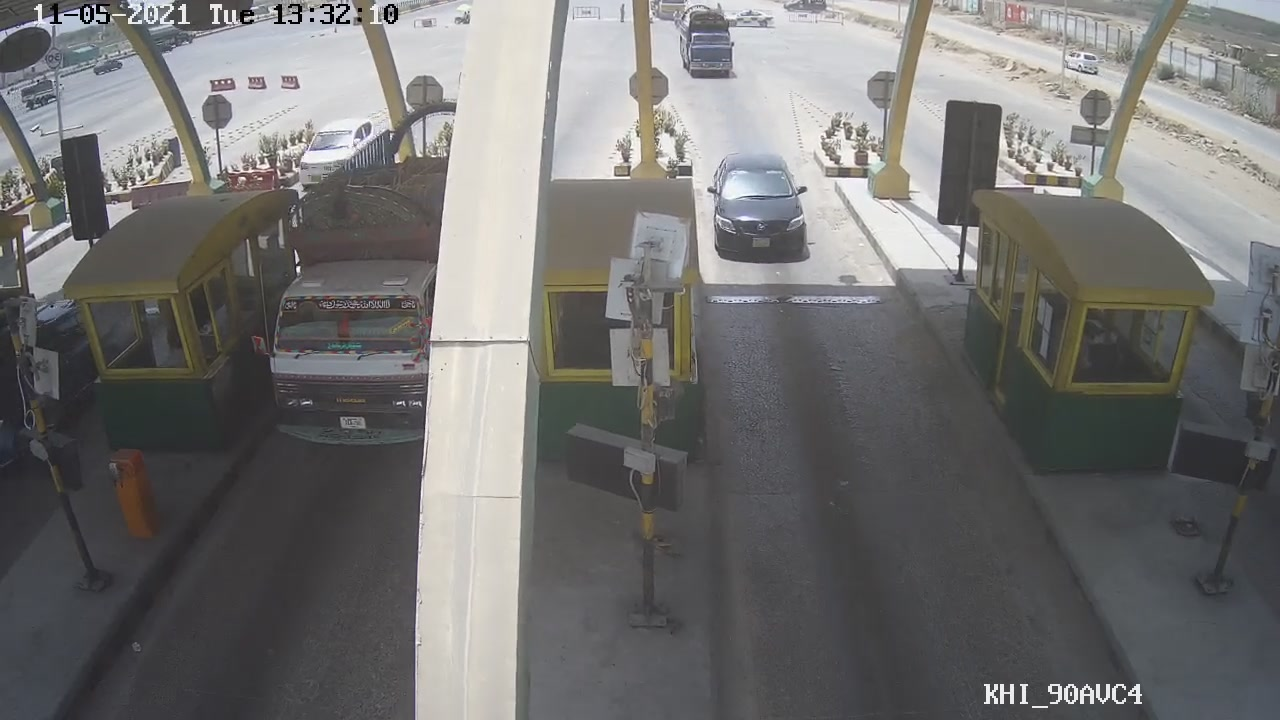F1: (704, 138, 819, 263)
